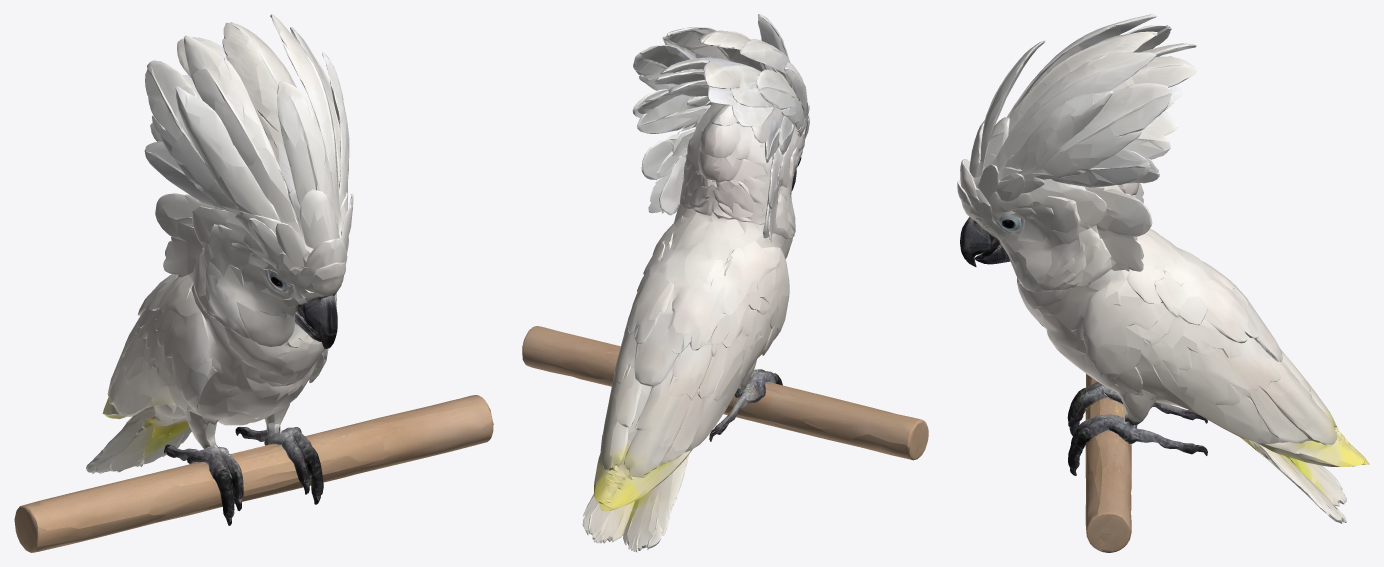
Rendered from kakadu.glb.
The picture shows the model from 3 angles, left to right: view 1: azimuth 30°, elevation 25°; view 2: azimuth 150°, elevation 25°; view 3: azimuth 270°, elevation 25°; orthographic projection. The views are drawn at different scales.
Bounding box in the file's own units: 1.75 × 1.9 × 1.48.
Materials: 1 (1 with a texture image).
